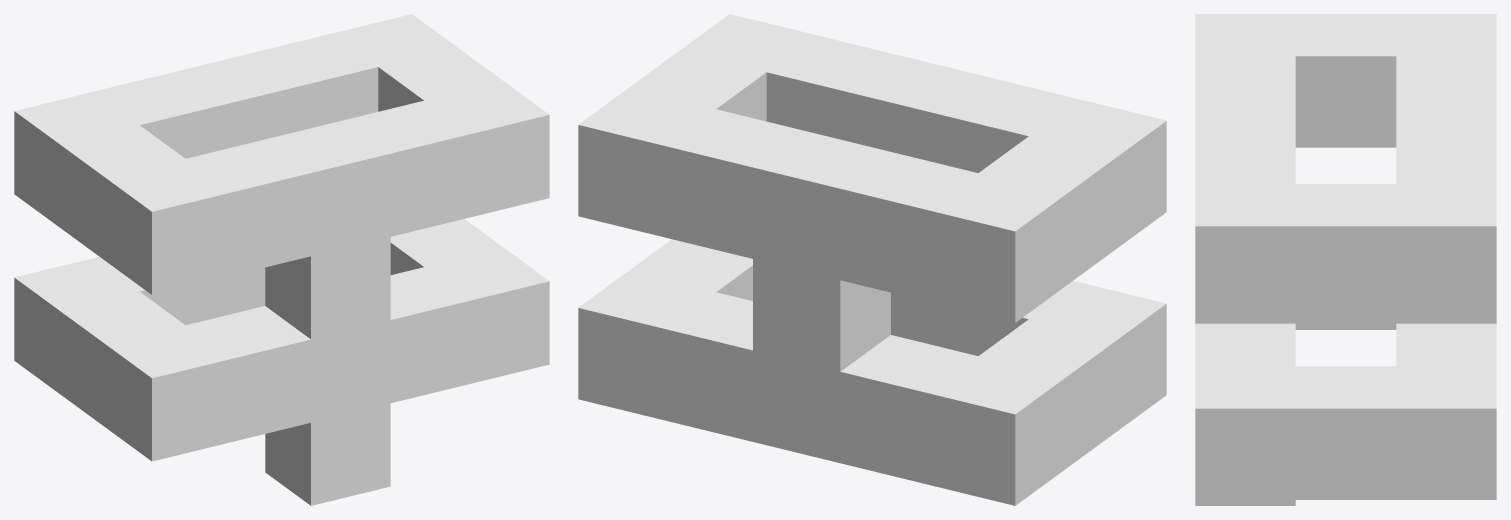
Rendered from Skeleton_Torso.dae.
3 renders of one model, left to right at view 1: azimuth 30°, elevation 25°; view 2: azimuth 150°, elevation 25°; view 3: azimuth 270°, elevation 25°, orthographic. The views are drawn at different scales.
Parts seen in each view (by area): view 1: Skeleton_Torso; view 2: Skeleton_Torso; view 3: Skeleton_Torso.
Part boxes in pixels (x1=…): Skeleton_Torso: x1=14, y1=14, x2=549, y2=505; Skeleton_Torso: x1=578, y1=14, x2=1166, y2=505; Skeleton_Torso: x1=1195, y1=14, x2=1496, y2=505.
Bounding box in the file's own units: 0.5 × 0.4 × 0.3.
Materials: 1 (1 with a texture image).
